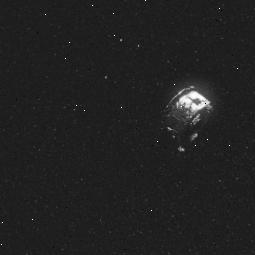lisa_pathfinder: (141, 74, 221, 163)
